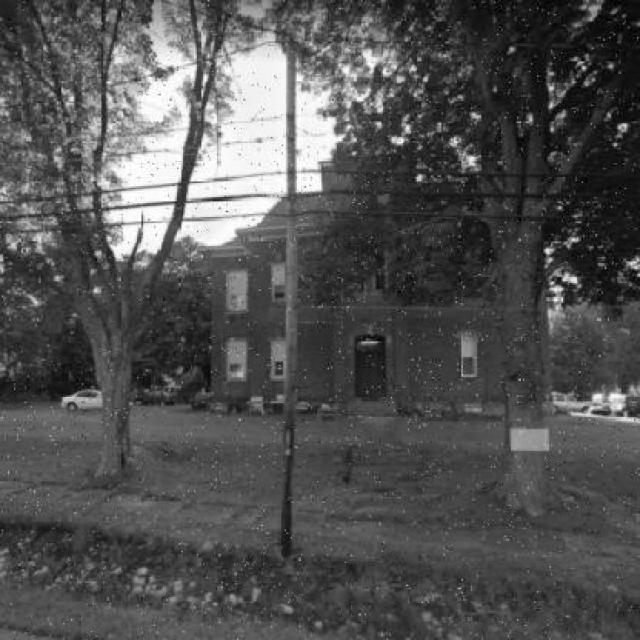pole: (277, 48, 300, 565)
wire: (0, 170, 640, 204), (0, 37, 281, 111), (0, 189, 582, 220), (0, 209, 555, 234)
